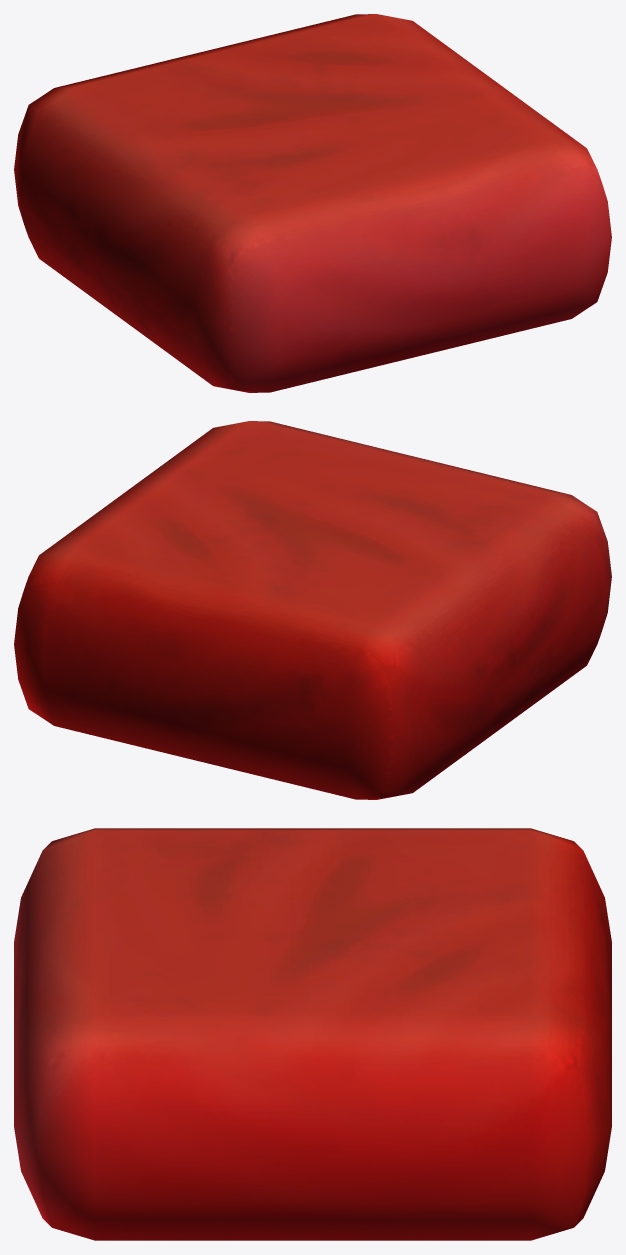
File: SM_Jump_Pad_1m_01.glb
3 renders of one model, top to bottom at view 1: azimuth 30°, elevation 25°; view 2: azimuth 150°, elevation 25°; view 3: azimuth 270°, elevation 25°, orthographic. The views are drawn at different scales.
Parts seen in each view (by area): view 1: SM_Jump_Pad_1m_01; view 2: SM_Jump_Pad_1m_01; view 3: SM_Jump_Pad_1m_01.
Part boxes in pixels (<box>): SM_Jump_Pad_1m_01: <box>14,14,611,392</box>; SM_Jump_Pad_1m_01: <box>14,421,611,799</box>; SM_Jump_Pad_1m_01: <box>14,828,611,1240</box>.
Bounding box in the file's own units: 0.9729 × 0.4 × 0.9729.
1 material, 1 textured.
